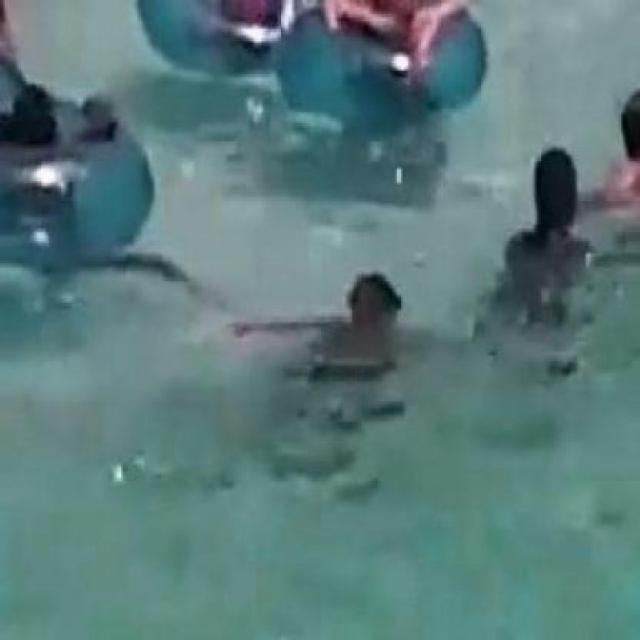drowning: (511, 149, 589, 294), (318, 278, 418, 358), (614, 84, 640, 219)
